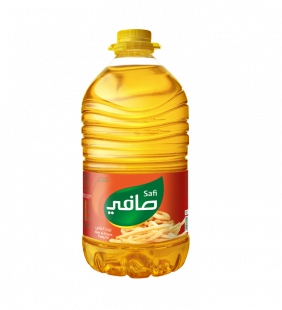Promotion: (75, 24, 195, 284)
